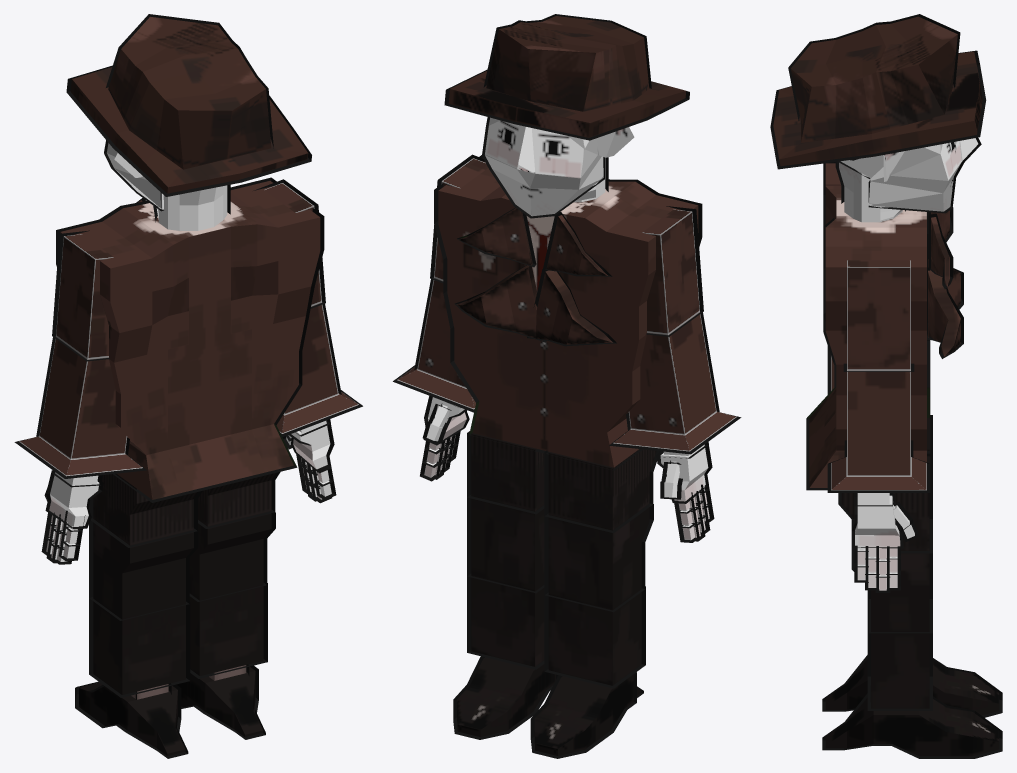
Rendered from ALIVE.fbx.
3 renders of one model, left to right at view 1: azimuth 30°, elevation 25°; view 2: azimuth 150°, elevation 25°; view 3: azimuth 270°, elevation 25°, orthographic.
Visible parts, largest first — view 1: cuboid, HAT, cuboid_5, cuboid_45, cuboid_44, cuboid_41, cuboid_40, shoulder, cuboid_43, cuboid_46, cuboid_22, cuboid_42 (+15 smaller); view 2: cuboid, HAT, cuboid_5, HEAD, cuboid_44, cuboid_45, cuboid_43, cuboid_40, cuboid_41, cuboid_46, cuboid_42, shoulder (+21 smaller); view 3: HAT, cuboid, cuboid_22, shoulder_1, cuboid_42, HEAD, cuboid_41, cuboid_40, cuboid_46, HAT_outline, cuboid_4, cuboid_24 (+13 smaller).
Part boxes in pixels (box(x1,y1,x2,y2)): cuboid: box(60, 181, 320, 499); HAT: box(70, 16, 308, 193); cuboid_5: box(19, 336, 142, 476); cuboid_45: box(93, 598, 185, 699); cuboid_44: box(93, 522, 193, 618); cuboid_41: box(189, 584, 263, 680); cuboid_40: box(189, 513, 271, 599); shoulder: box(56, 234, 113, 358); cuboid_43: box(93, 473, 197, 545); cuboid_46: box(79, 682, 185, 755); cuboid_22: box(276, 302, 358, 433); cuboid_42: box(176, 666, 263, 736); cuboid: box(438, 161, 698, 467); HAT: box(448, 16, 686, 137); cuboid_5: box(613, 311, 736, 451); HEAD: box(485, 117, 634, 216); cuboid_44: box(548, 507, 649, 609); cuboid_45: box(548, 588, 641, 685); cuboid_43: box(548, 449, 656, 530); cuboid_40: box(471, 498, 544, 590); cuboid_41: box(471, 575, 544, 666); cuboid_46: box(534, 674, 641, 755); cuboid_42: box(457, 657, 555, 736); shoulder: box(642, 209, 699, 334); HAT: box(773, 16, 982, 166); cuboid: box(809, 163, 926, 487); cuboid_22: box(831, 370, 926, 490); shoulder_1: box(847, 260, 910, 369); cuboid_42: box(825, 697, 999, 756); HEAD: box(841, 138, 978, 211); cuboid_41: box(871, 631, 929, 708); cuboid_40: box(871, 553, 929, 630); cuboid_46: box(825, 659, 999, 715); HAT_outline: box(770, 14, 986, 169); cuboid_4: box(928, 270, 960, 356); cuboid_24: box(855, 495, 900, 546).
Bounding box in the file's own units: 204 × 447 × 136.
Materials: 7 (7 with a texture image).
